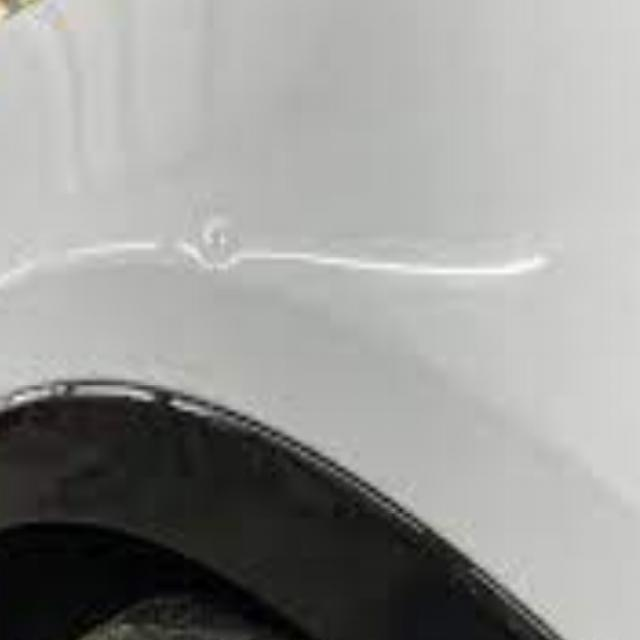dents: (154, 215, 269, 287)
